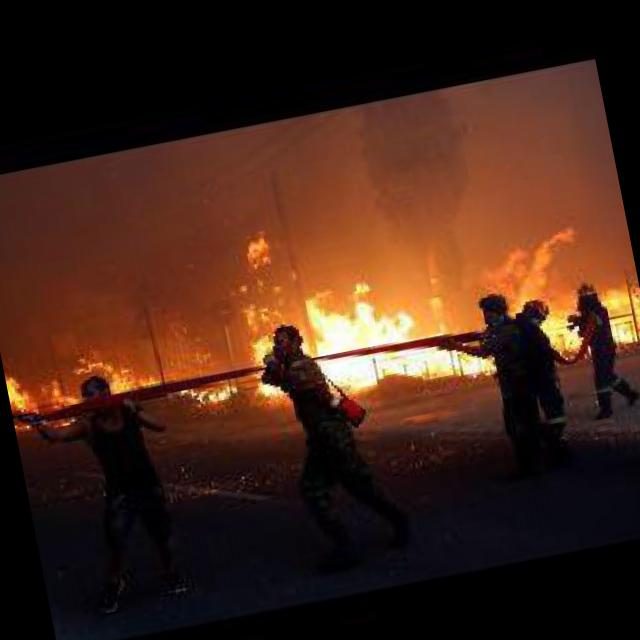fire: (217, 192, 467, 432), (442, 214, 640, 381), (1, 314, 241, 448)
